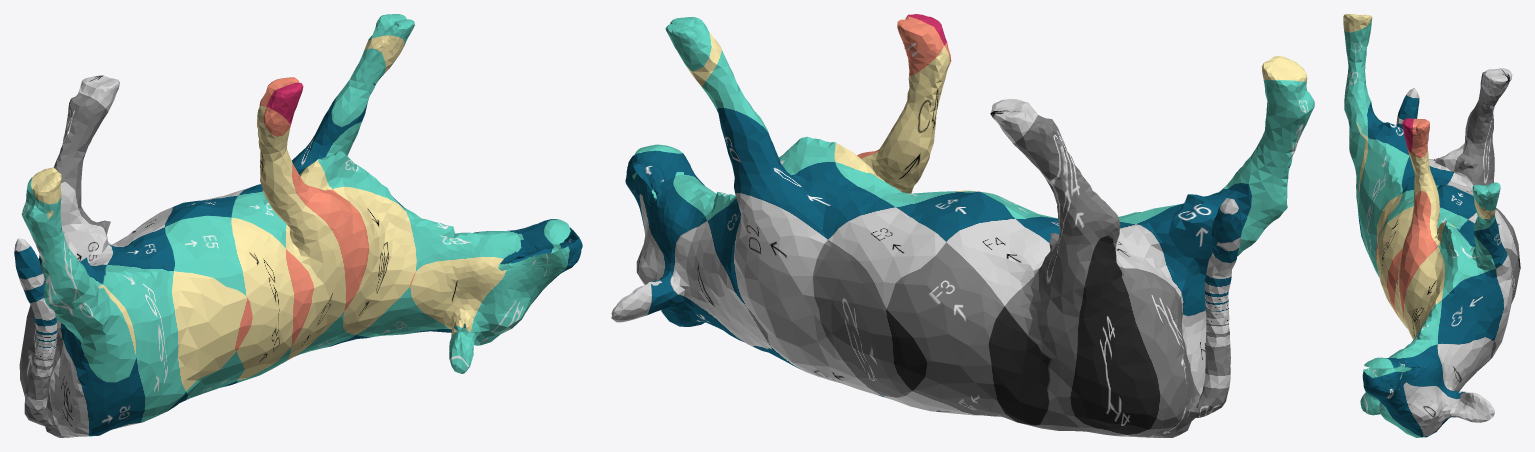
The model's file is hippo_06-cow_03.obj.
The picture shows the model from 3 angles, left to right: view 1: azimuth 30°, elevation 25°; view 2: azimuth 150°, elevation 25°; view 3: azimuth 270°, elevation 25°; orthographic projection. The views are drawn at different scales.
Parts seen in each view (by area): view 1: hippo_06-cow_03_export; view 2: hippo_06-cow_03_export; view 3: hippo_06-cow_03_export.
Part boxes in pixels (x1,y1,x2,y2): hippo_06-cow_03_export: (14, 14, 582, 437); hippo_06-cow_03_export: (611, 14, 1314, 437); hippo_06-cow_03_export: (1343, 14, 1520, 437).
Size of the model in its own units: 1 by 0.5262 by 0.3449.
